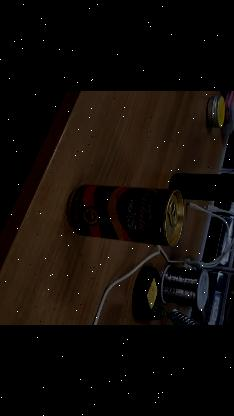Can: (64, 186, 188, 242)
